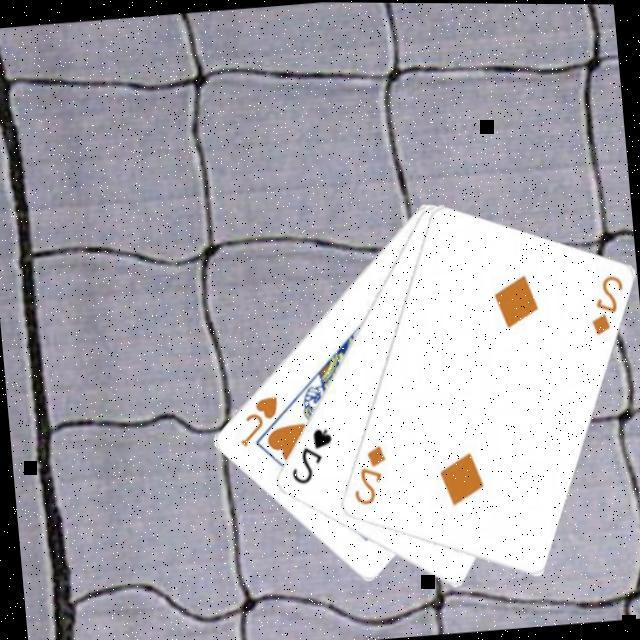2D: (582, 268, 630, 336), (347, 439, 392, 507)
2S: (284, 420, 339, 486)
JH: (232, 390, 284, 448)
